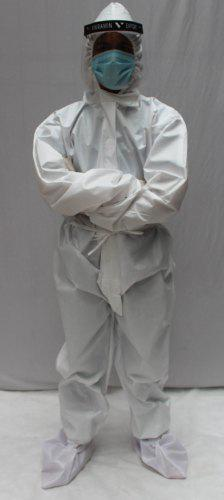mask: (89, 49, 140, 96)
